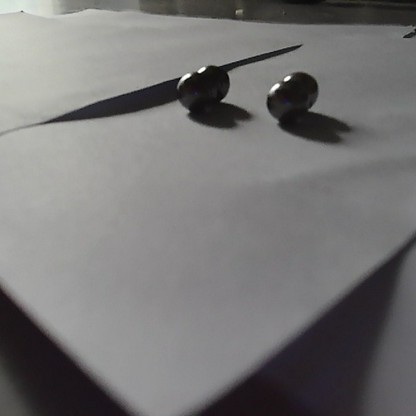ironball: (175, 70, 217, 110), (265, 80, 307, 119), (279, 71, 318, 107), (197, 64, 231, 99)
